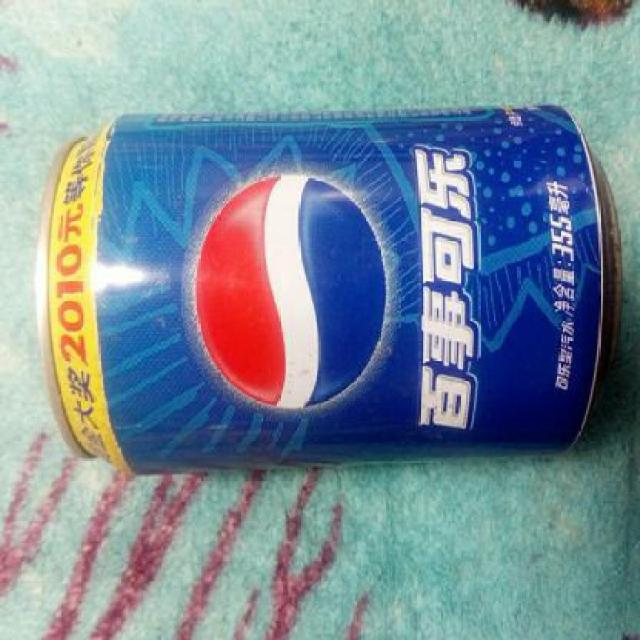Metal: (35, 103, 624, 476)
